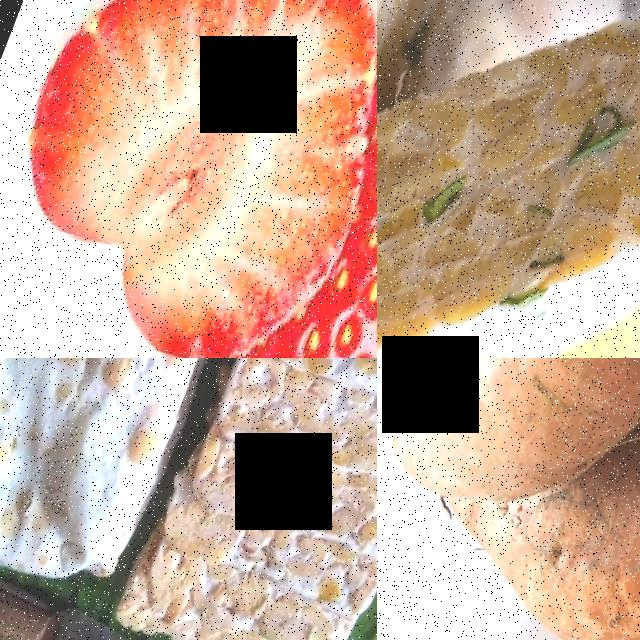strawberry: (0, 0, 377, 358), (278, 20, 377, 358)
sweet potato: (377, 358, 640, 588), (563, 358, 640, 640)
tempeh: (377, 0, 640, 358), (0, 358, 254, 616), (111, 479, 377, 640), (185, 428, 377, 605), (213, 358, 377, 540)
